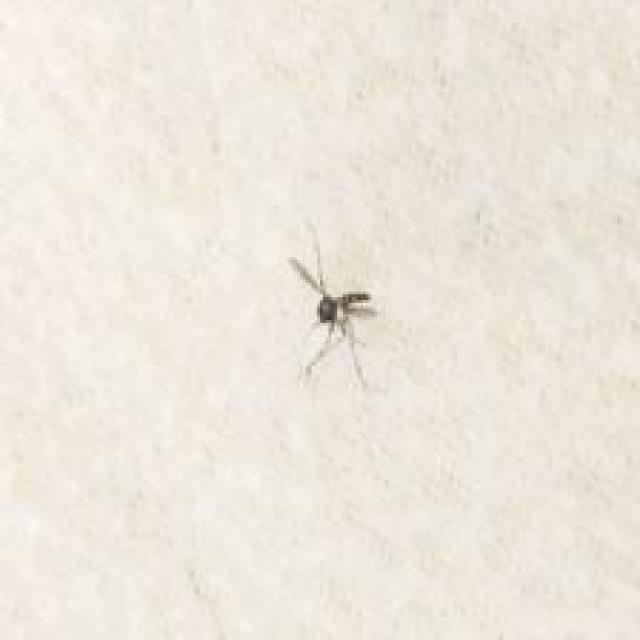Aedes albopictus: (286, 225, 377, 388)
